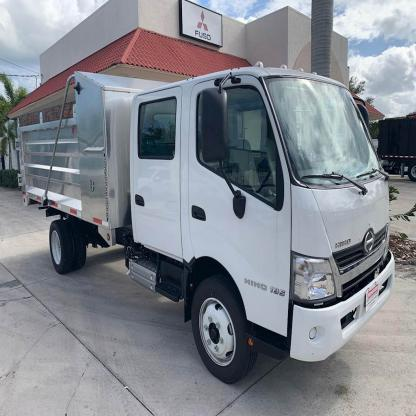dump_truck: (15, 54, 399, 398)
